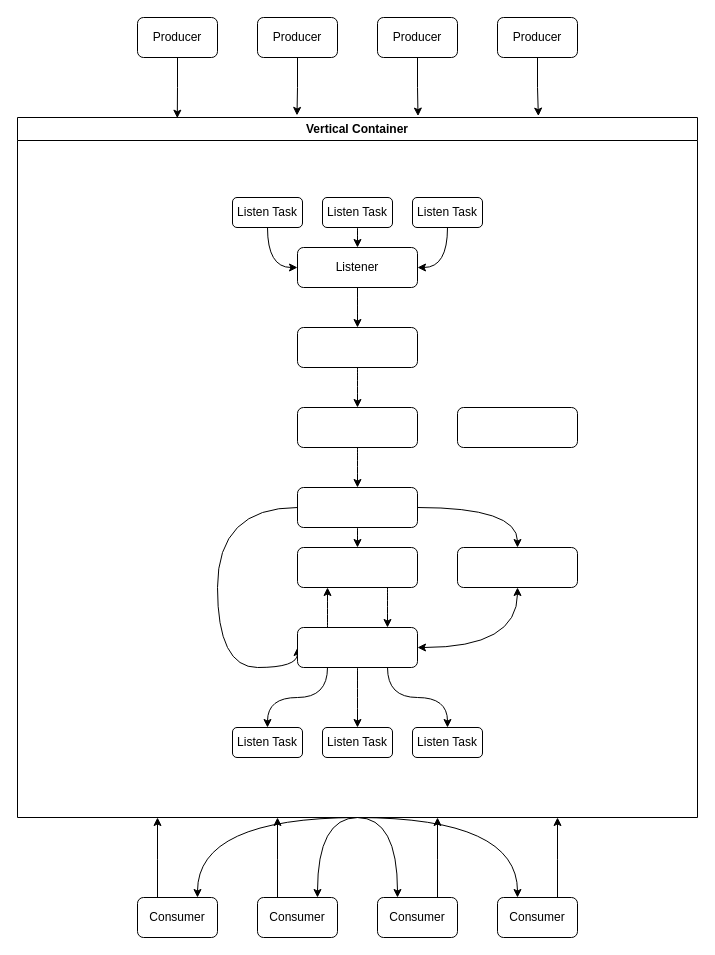
The diagram is 715 pixels wide and 955 high, and some of its shapes have lost their labels. Each missing label, with the centre of its shape:
"Dead Letter Store" goes at [517,427].
"Letter Store" goes at [357,567].
"Message processor" goes at [357,507].
"Router" goes at [357,347].
"Sender" goes at [357,647].
"Subscriber store" goes at [517,567].
"TCP parser" goes at [357,427].
